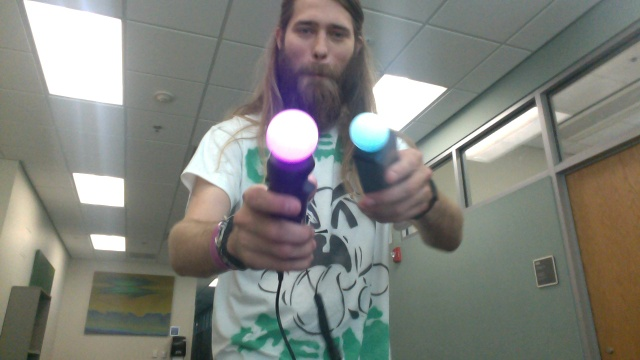wand: (267, 110, 319, 163), (351, 112, 390, 151)
